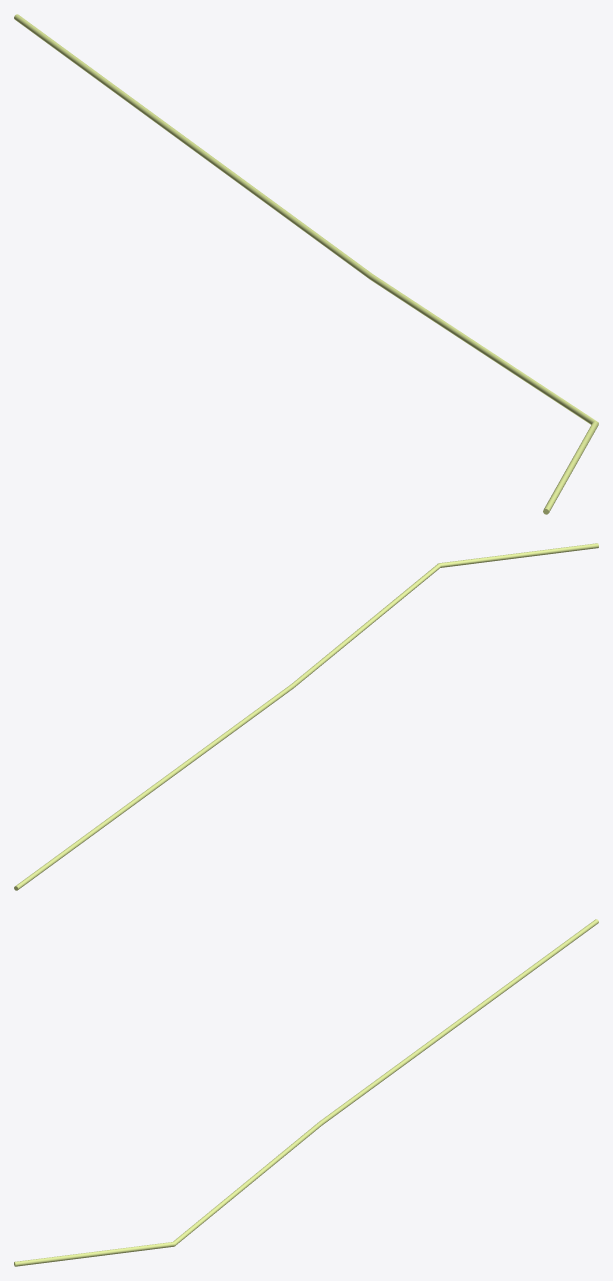
Rendered from Light.glb.
3 renders of one model, top to bottom at view 1: azimuth 30°, elevation 25°; view 2: azimuth 150°, elevation 25°; view 3: azimuth 330°, elevation 25°, orthographic. The views are drawn at different scales.
Parts seen in each view (by area): view 1: Light; view 2: Light; view 3: Light.
Part boxes in pixels (bbox=[...]): Light: bbox=[14, 14, 598, 514]; Light: bbox=[14, 543, 598, 890]; Light: bbox=[14, 919, 598, 1266].
Bounding box in the file's own units: 5.31 × 0.2237 × 44.67.
